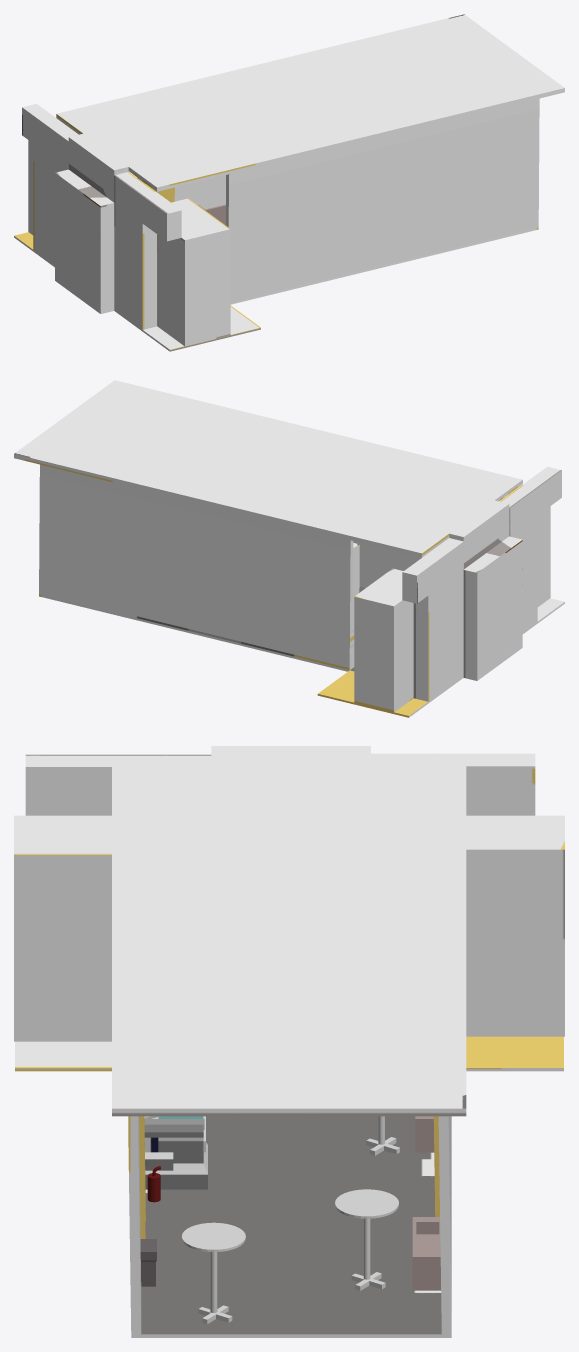
Rendered from AreaRelax.dae.
The picture shows the model from 3 angles, top to bottom: view 1: azimuth 30°, elevation 25°; view 2: azimuth 150°, elevation 25°; view 3: azimuth 270°, elevation 25°; orthographic projection. The views are drawn at different scales.
Visible parts, largest first — view 1: Cube; view 2: Cube; view 3: Cube, Fotocopiatrice, Tavolino, Tavolino.001, Coccia.001, Cestino.
Boxes of the visible parts, <box> form: Cube: <box>14,14,564,351</box>; Cube: <box>14,380,564,717</box>; Cube: <box>14,746,564,1337</box>; Fotocopiatrice: <box>144,1116,207,1189</box>; Tavolino: <box>181,1222,245,1324</box>; Tavolino.001: <box>335,1189,398,1290</box>; Coccia.001: <box>412,1217,441,1290</box>; Cestino: <box>140,1239,156,1286</box>.
Size of the model in its own units: 41.56 by 25.85 by 12.79.
